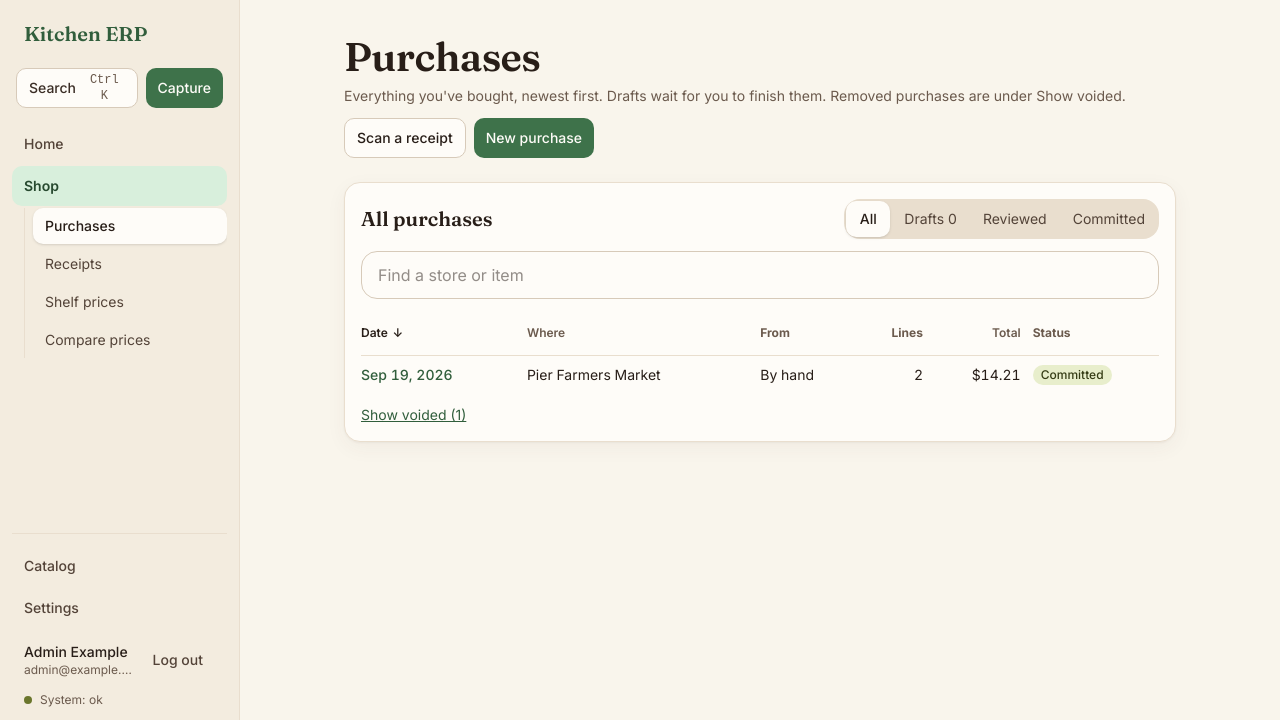
purchases: empty states (G11, UI-3.11) › brings the purchases back when Show all clears a filter that found nothing
This screenshot has width=1280, height=720.
Check: the table named "Purchases" is shown, box top-left (361, 311), bottom-right (1159, 393)
Click the button "Drafts 0".
click(931, 219)  # box top-left (892, 201), bottom-right (969, 237)
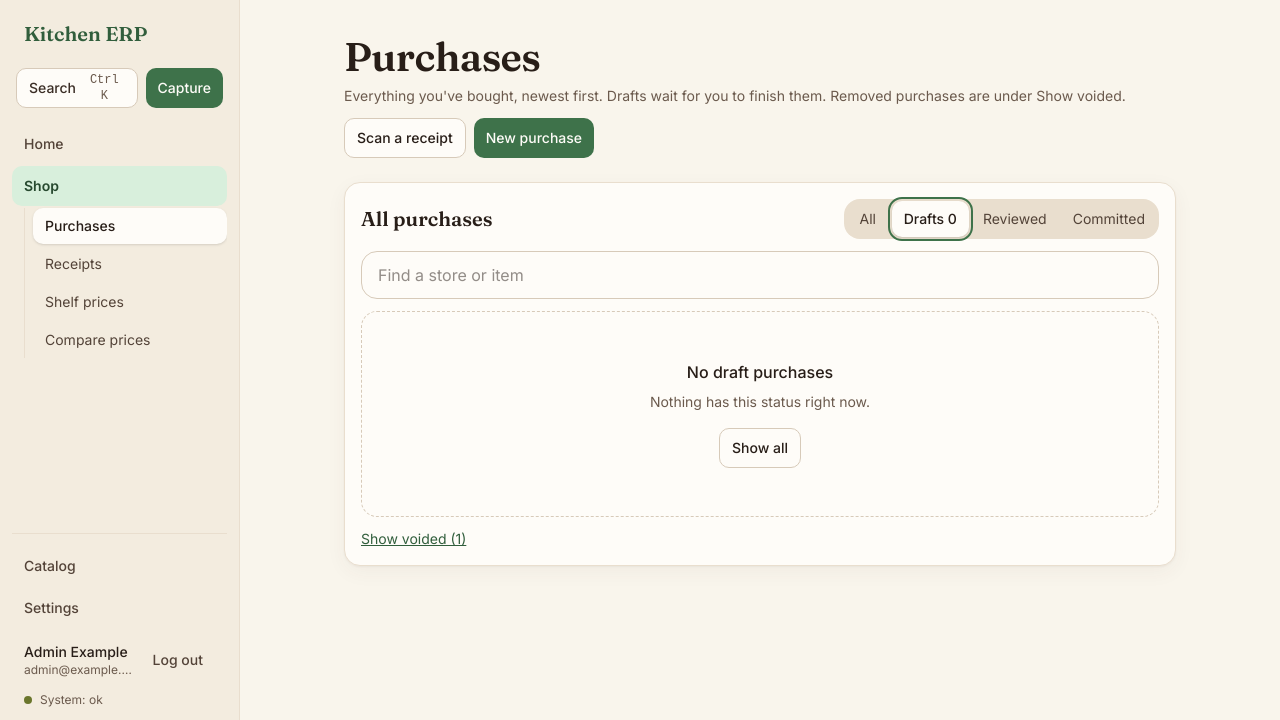
Check: the table is gone
Click the button "Show all".
click(760, 448)  # box top-left (719, 428), bottom-right (801, 468)
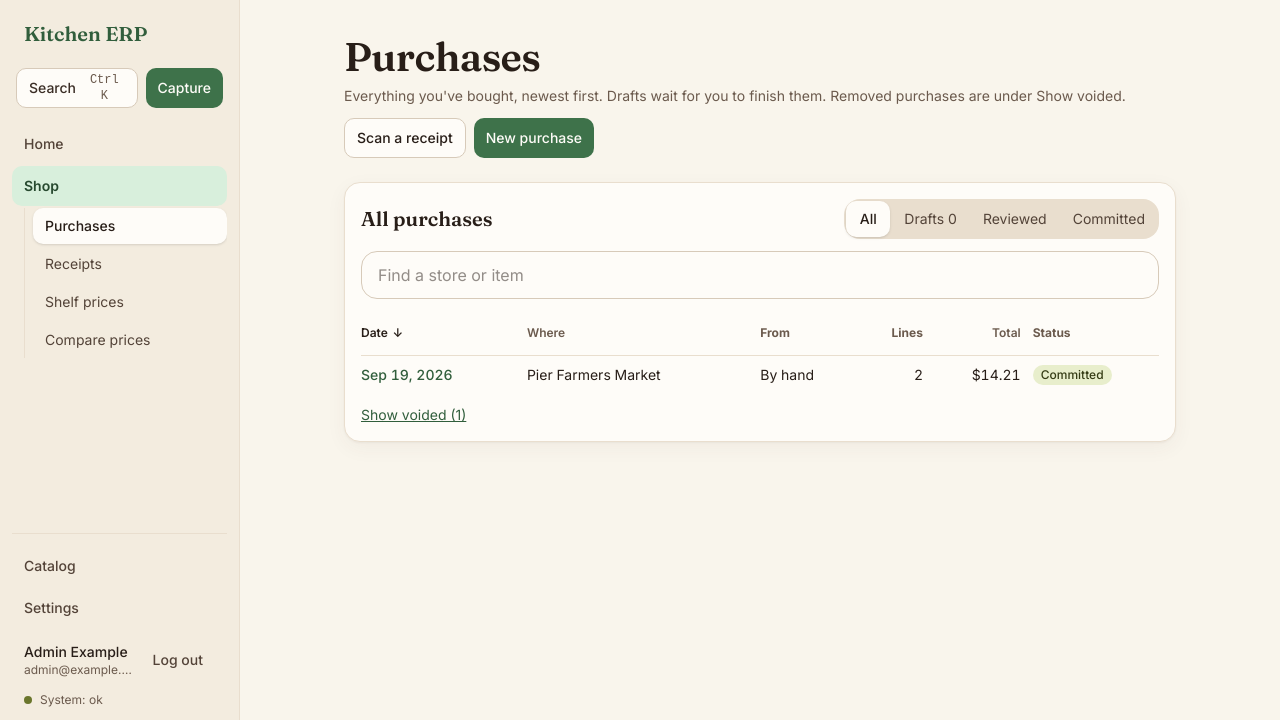
Check: the text "Pier Farmers Market" is shown, box top-left (527, 356), bottom-right (760, 393)
